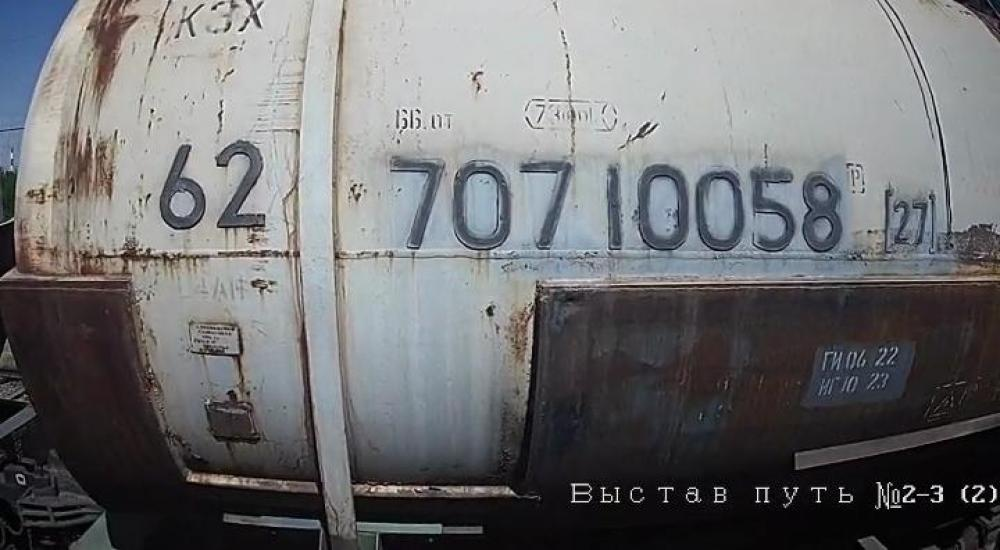Wagon-number: (388, 152, 845, 256)
